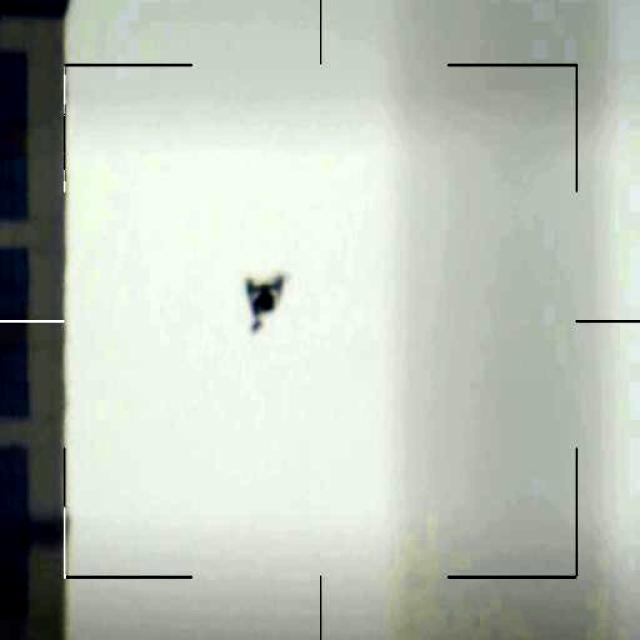bird: (238, 265, 291, 341)
